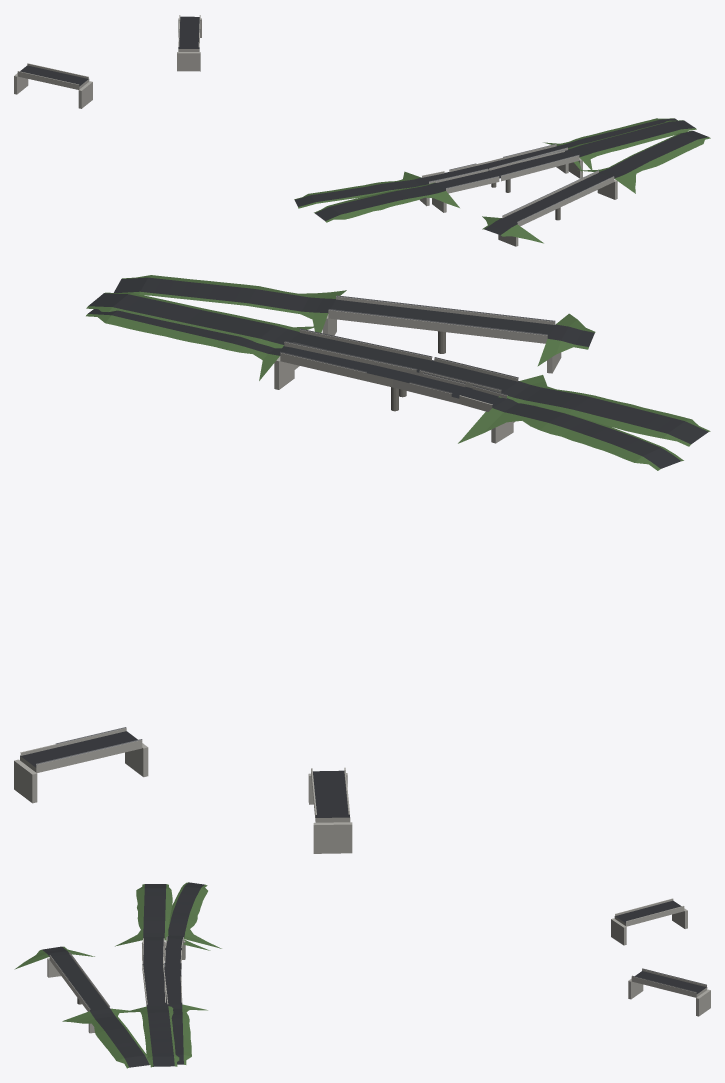
File: br_n260_scona_connors_lod1.gltf
3 views of the same model, one above another, from view 1: azimuth 30°, elevation 25°; view 2: azimuth 150°, elevation 25°; view 3: azimuth 270°, elevation 25° (orthographic). The views are drawn at different scales.
Parts seen in each view (by area): view 1: br_n260_scona_connors_lod1; view 2: br_n260_scona_connors_lod1; view 3: br_n260_scona_connors_lod1.
Part boxes in pixels (box(x1,y1,x2,y2)): br_n260_scona_connors_lod1: box(14, 15, 710, 246); br_n260_scona_connors_lod1: box(14, 275, 710, 853); br_n260_scona_connors_lod1: box(14, 882, 710, 1068).
Size of the model in its own units: 224 by 31.65 by 325.
